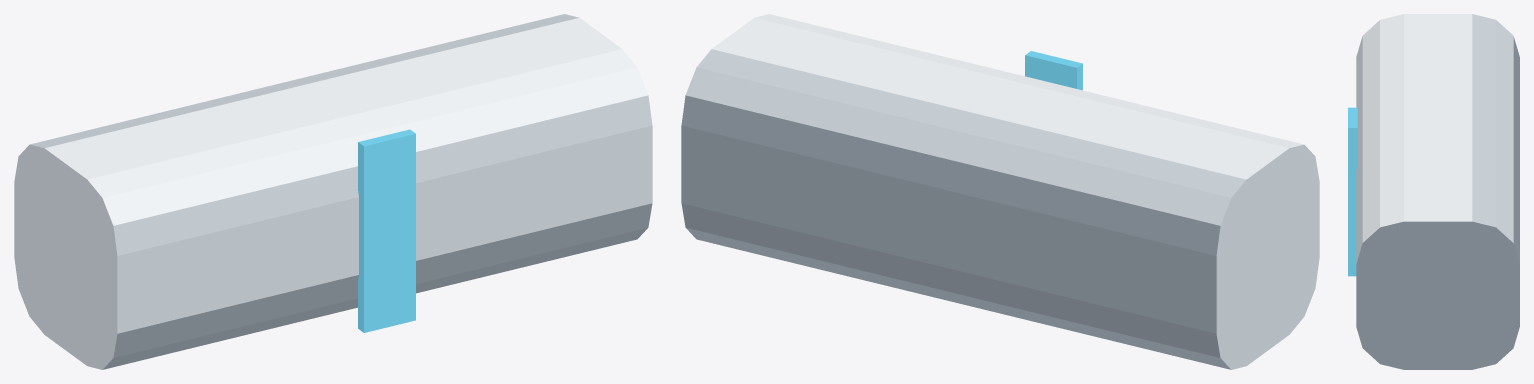
The model's file is Door_LeafFolded.gltf.
The picture shows the model from 3 angles, left to right: view 1: azimuth 30°, elevation 25°; view 2: azimuth 150°, elevation 25°; view 3: azimuth 270°, elevation 25°; orthographic projection. The views are drawn at different scales.
Visible parts, largest first — view 1: Door_LeafFolded_baked; view 2: Door_LeafFolded_baked; view 3: Door_LeafFolded_baked.
Part boxes in pixels (box(x1,y1,x2,y2)): Door_LeafFolded_baked: box(14, 14, 652, 369); Door_LeafFolded_baked: box(681, 14, 1319, 369); Door_LeafFolded_baked: box(1348, 14, 1519, 369).
Size of the model in its own units: 0.72 by 0.24 by 0.252.
